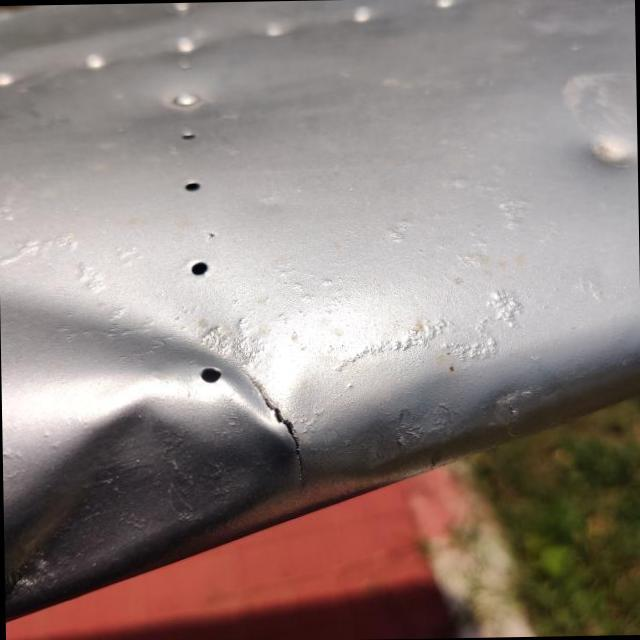Dent: (0, 247, 319, 626), (560, 114, 638, 196)
Rupture: (222, 350, 324, 527)
